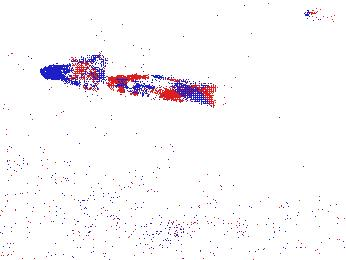red belly glassfish: (301, 6, 343, 25)
redtail glassfish: (108, 73, 217, 111), (39, 57, 116, 88)
